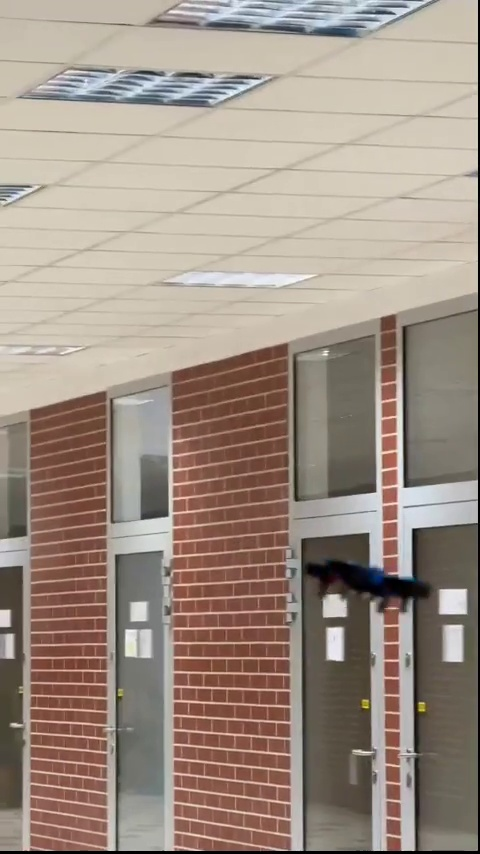drone: (310, 557, 427, 614)
